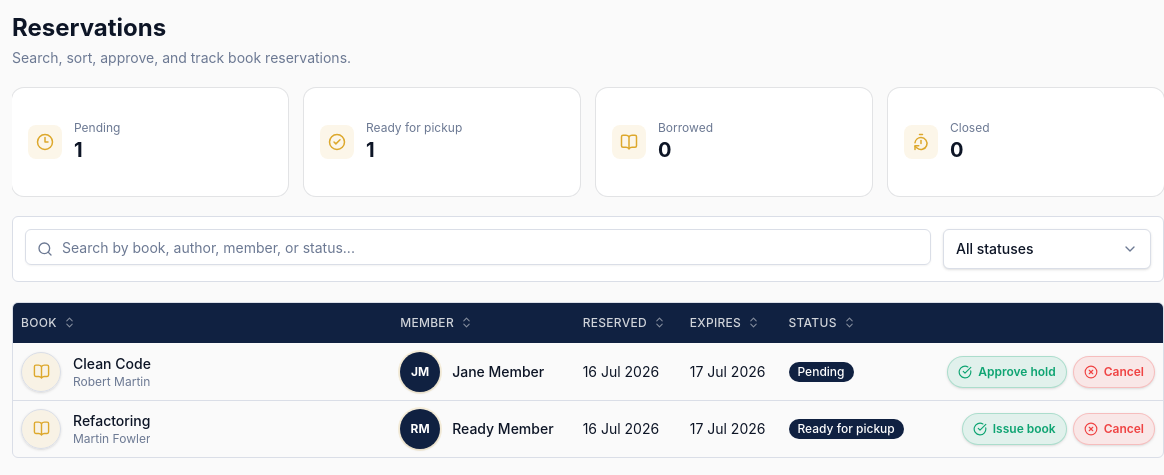
Test: ReservationsPage pickup flow › searches ready pickup reservations by visible status label
The width and height of the screenshot is (1164, 475).
Check: the text "Refactoring" is shown, box [73,410,150,430]
Type "Ready for pickup" into the field with placeholder "Search by book, author, member, or status...".
click(478, 247); type("Ready for pickup")  # box [25,229,931,265]
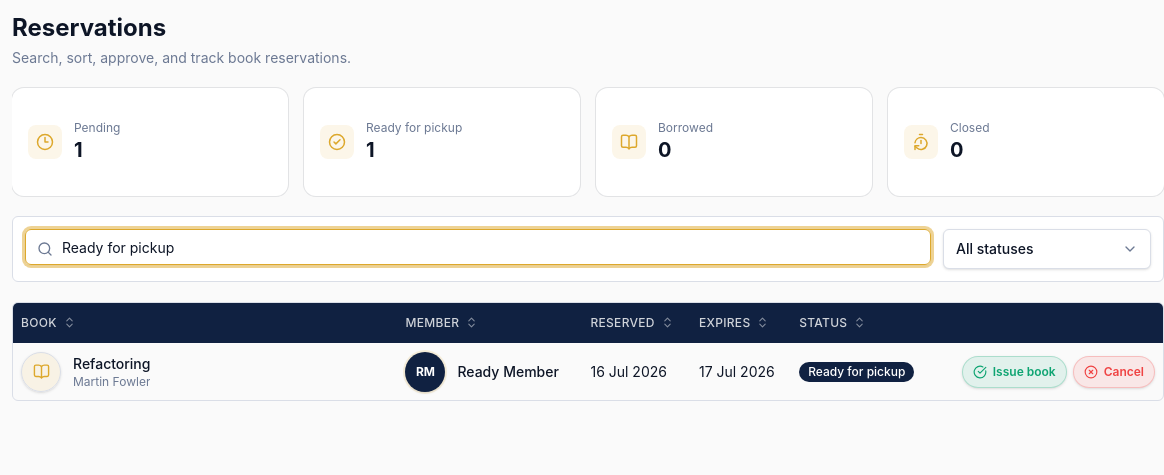
Check: the text "Clean Code" is gone
Check: the text "Refactoring" is shown, box [73,354,150,374]
